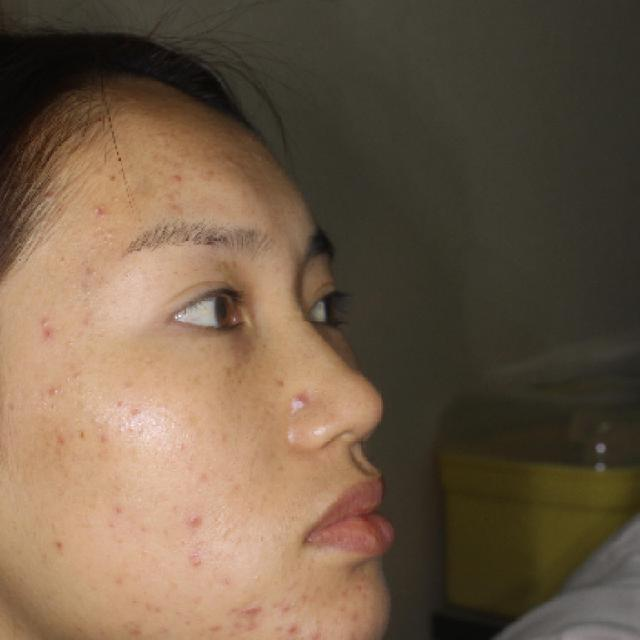Acne: (282, 382, 318, 418), (182, 508, 212, 538)
Whiteheads: (43, 382, 69, 403), (185, 552, 208, 573), (35, 312, 54, 330)
